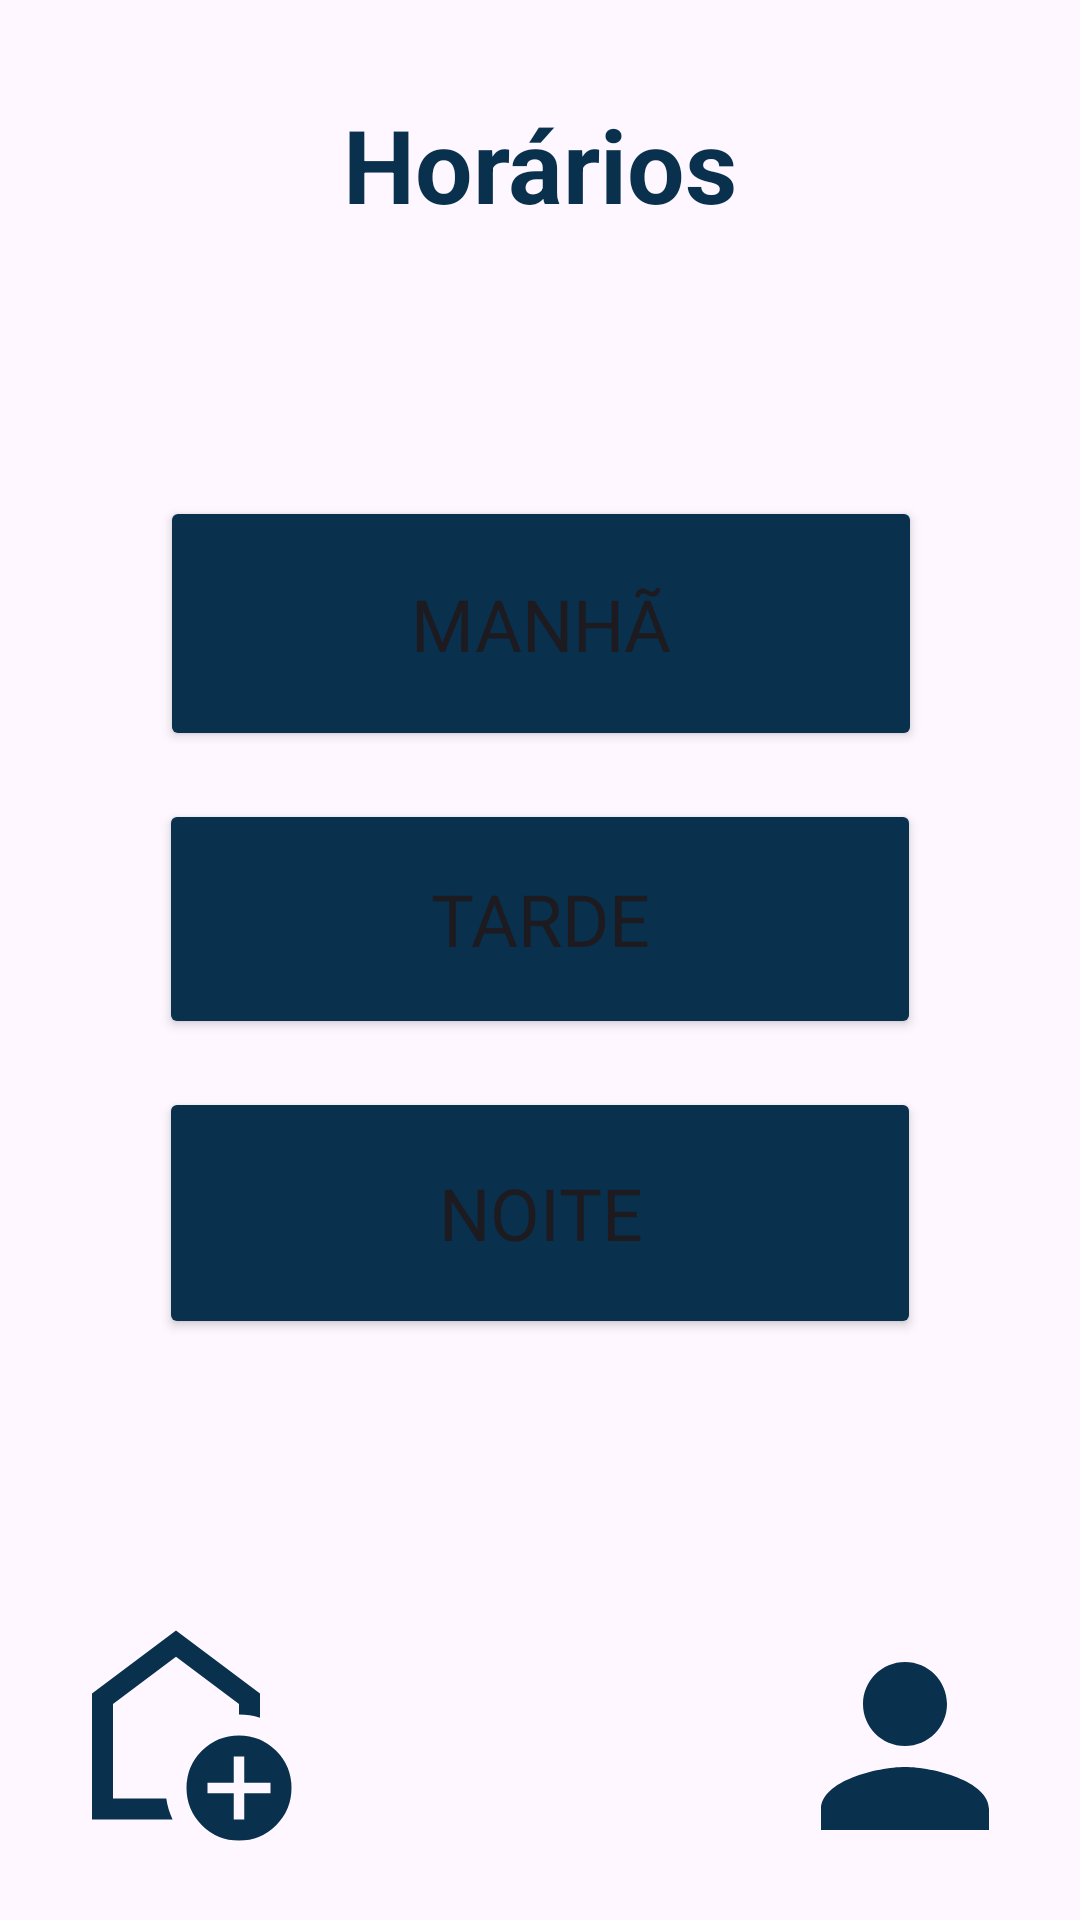

Icons on this 1080 × 1920 Android screen, each with its box as box(x1, y1, x2, y2):
home: box(92, 1630, 292, 1841)
pessoa: box(821, 1662, 989, 1830)
